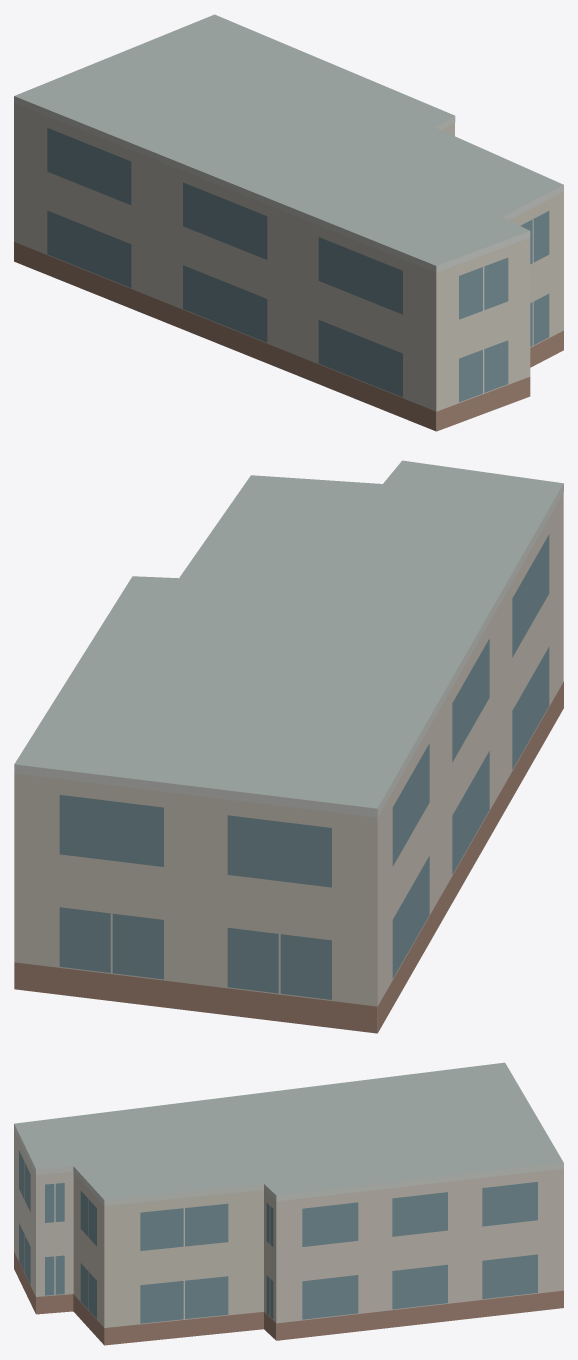
Rendered from survey-upis-32760108.glb.
3 views of the same model, one above another, from view 1: azimuth 30°, elevation 25°; view 2: azimuth 150°, elevation 25°; view 3: azimuth 270°, elevation 25° (orthographic). The views are drawn at different scales.
Parts seen in each view (by area): view 1: survey-upis-32760108.tmp; view 2: survey-upis-32760108.tmp; view 3: survey-upis-32760108.tmp.
Boxes of the visible parts, left/top/right/bottom form: survey-upis-32760108.tmp: left=14, top=14, right=563, bottom=431; survey-upis-32760108.tmp: left=14, top=460, right=563, bottom=1033; survey-upis-32760108.tmp: left=14, top=1062, right=563, bottom=1345.
Bounding box in the file's own units: 12.41 × 6.1 × 20.94.
